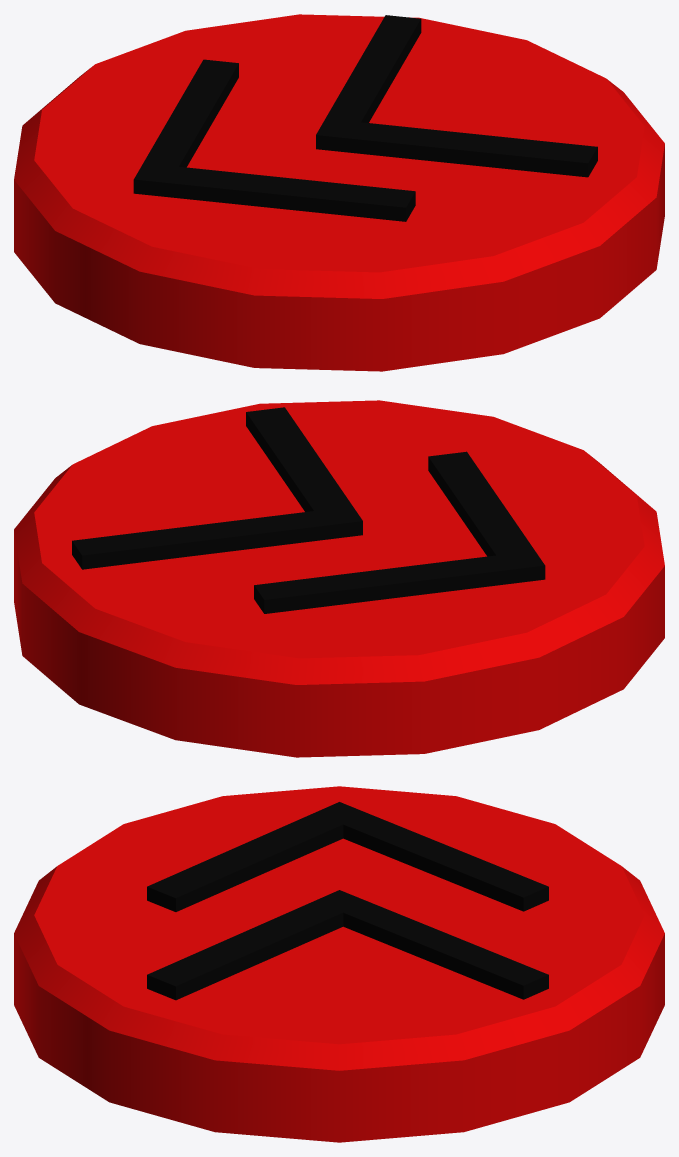
File: SM_ButtonHead.fbx
3 renders of one model, top to bottom at view 1: azimuth 30°, elevation 25°; view 2: azimuth 150°, elevation 25°; view 3: azimuth 270°, elevation 25°, orthographic.
Parts seen in each view (by area): view 1: Button_Head; view 2: Button_Head; view 3: Button_Head.
Part boxes in pixels (<box>): Button_Head: <box>14,14,664,371</box>; Button_Head: <box>14,400,664,757</box>; Button_Head: <box>14,786,664,1142</box>.
Bounding box in the file's own units: 85.49 × 15.04 × 85.49.
